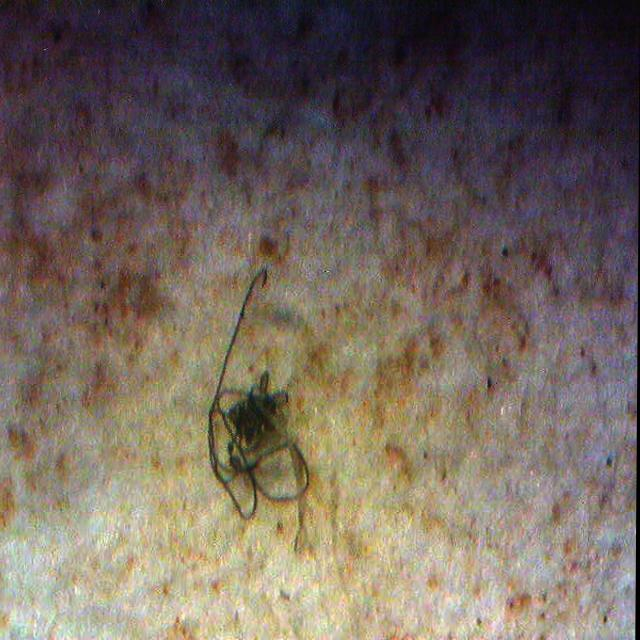microplastic: (172, 271, 317, 526)
